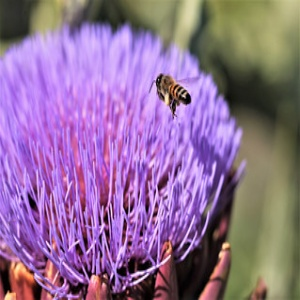bee: (150, 73, 199, 117)
